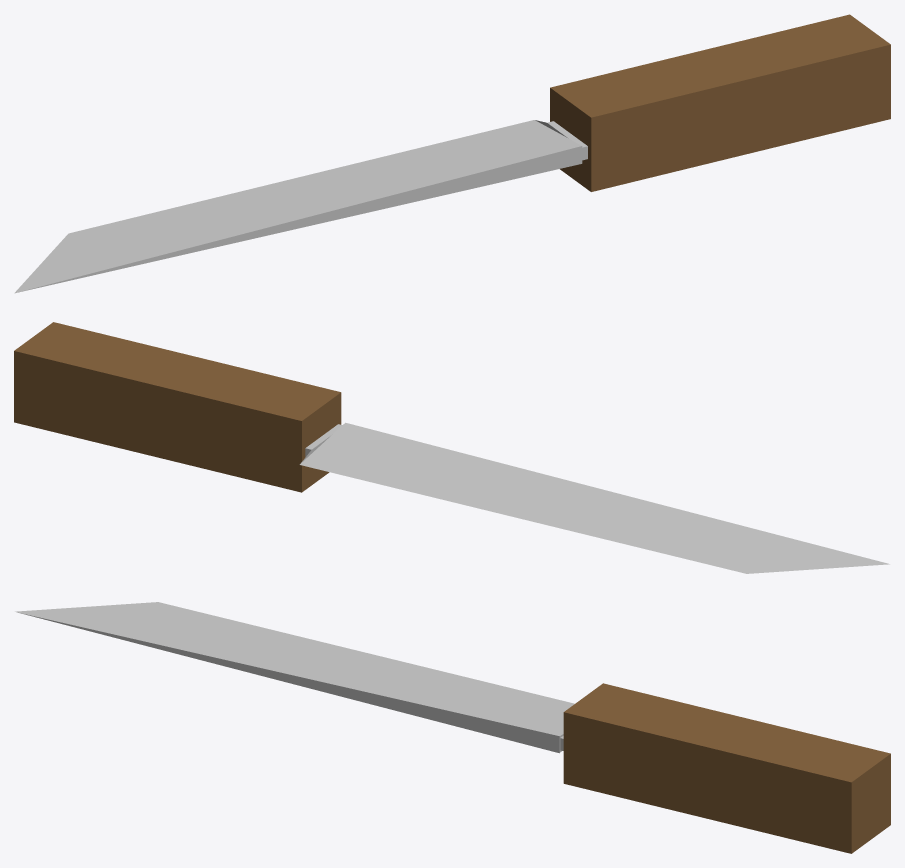
File: knife.fbx
3 renders of one model, top to bottom at view 1: azimuth 30°, elevation 25°; view 2: azimuth 150°, elevation 25°; view 3: azimuth 330°, elevation 25°, orthographic. The views are drawn at different scales.
Visible parts, largest first — view 1: Knife; view 2: Knife; view 3: Knife.
Part boxes in pixels (x1,y1,x2,y2): Knife: (14,14,890,293); Knife: (14,322,889,573); Knife: (15,602,890,853).
Size of the model in its own units: 233 by 18.96 by 23.15.
